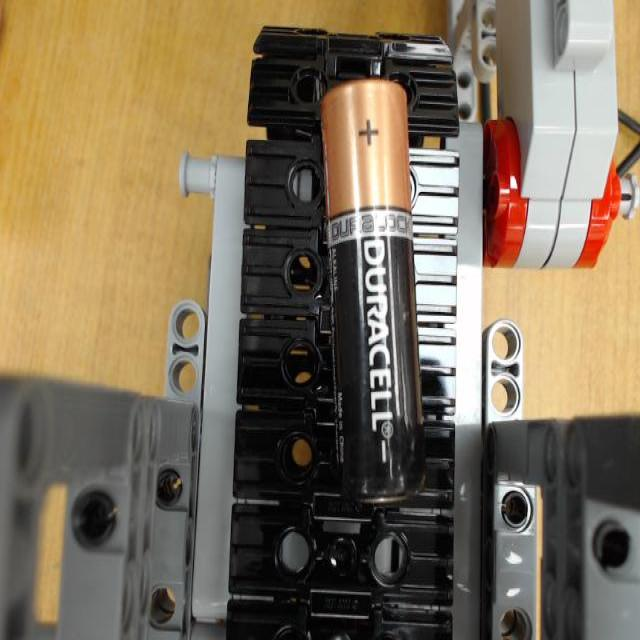AA: (322, 77, 426, 502)
